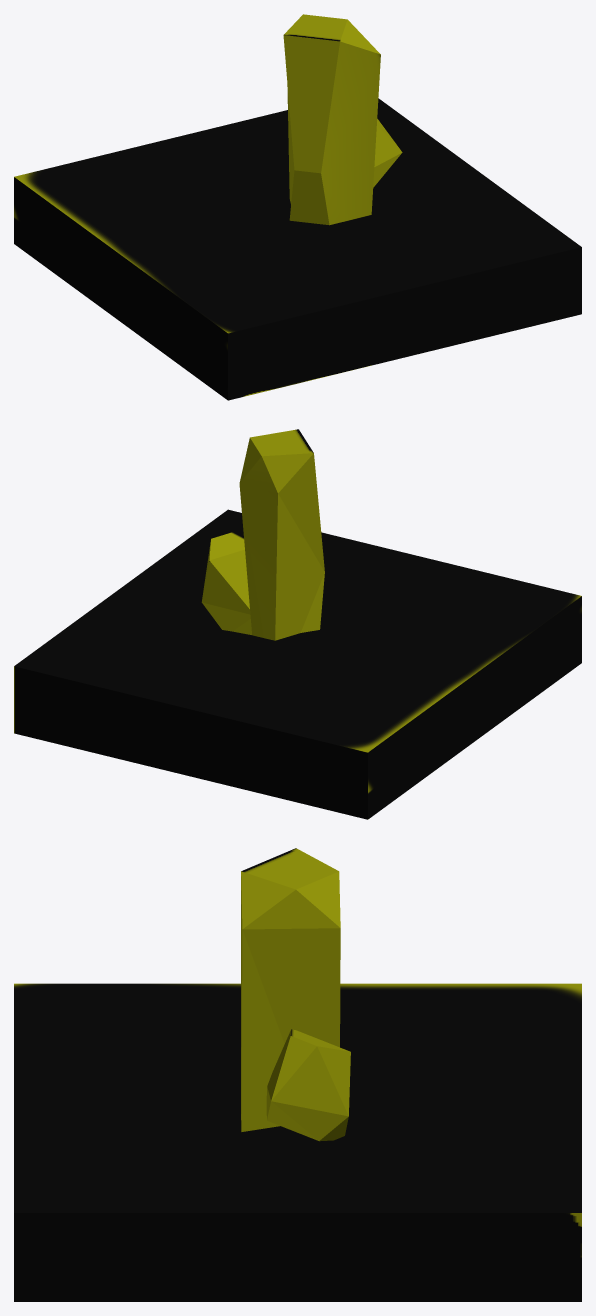
File: CrystalBlock.fbx
The picture shows the model from 3 angles, top to bottom: view 1: azimuth 30°, elevation 25°; view 2: azimuth 150°, elevation 25°; view 3: azimuth 270°, elevation 25°; orthographic projection. The views are drawn at different scales.
Visible parts, largest first — view 1: Cube; view 2: Cube; view 3: Cube.
Boxes of the visible parts, x1,y1,x2,y2 form: Cube: [14, 14, 581, 400]; Cube: [14, 429, 581, 819]; Cube: [14, 848, 581, 1301].
Size of the model in its own units: 1104 by 740 by 1156.
